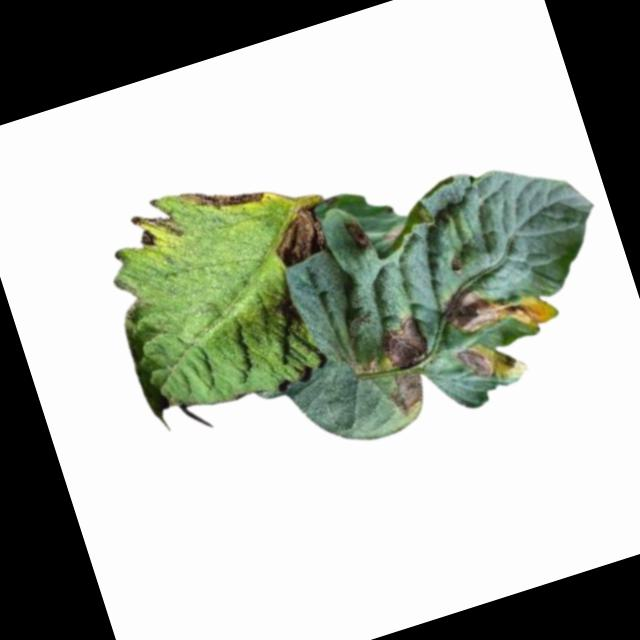Early_blight: (438, 264, 557, 353), (178, 167, 266, 226), (265, 202, 330, 269), (375, 311, 432, 372), (382, 366, 433, 425), (455, 341, 502, 387), (343, 216, 376, 259), (137, 227, 161, 252)
